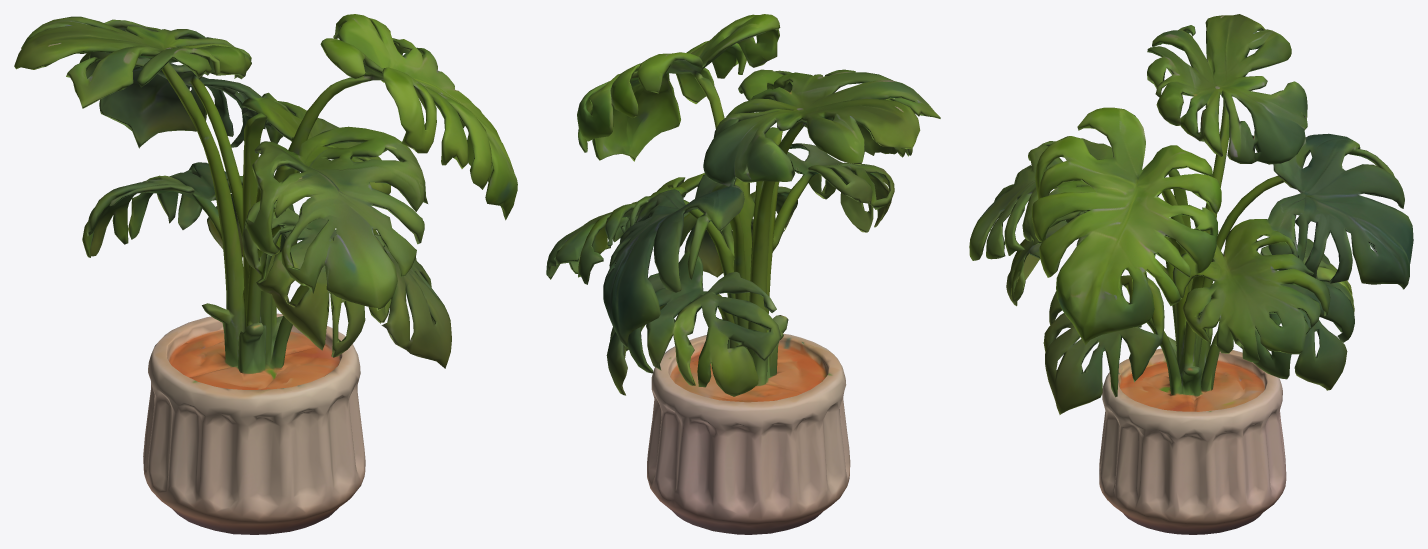
File: au_furn_plant_monstera.glb
The picture shows the model from 3 angles, left to right: view 1: azimuth 30°, elevation 25°; view 2: azimuth 150°, elevation 25°; view 3: azimuth 270°, elevation 25°; orthographic projection. The views are drawn at different scales.
Parts seen in each view (by area): view 1: tripo_node_6e0d304c-6aca-4133-9d45-9ad5f79b0c3a; view 2: tripo_node_6e0d304c-6aca-4133-9d45-9ad5f79b0c3a; view 3: tripo_node_6e0d304c-6aca-4133-9d45-9ad5f79b0c3a.
Boxes of the visible parts, x1,y1,x2,y2 form: tripo_node_6e0d304c-6aca-4133-9d45-9ad5f79b0c3a: (14,14,517,534); tripo_node_6e0d304c-6aca-4133-9d45-9ad5f79b0c3a: (546,14,940,534); tripo_node_6e0d304c-6aca-4133-9d45-9ad5f79b0c3a: (969,14,1413,534).
Size of the model in its own units: 0.4408 by 0.5 by 0.482.
1 material, 1 textured.
